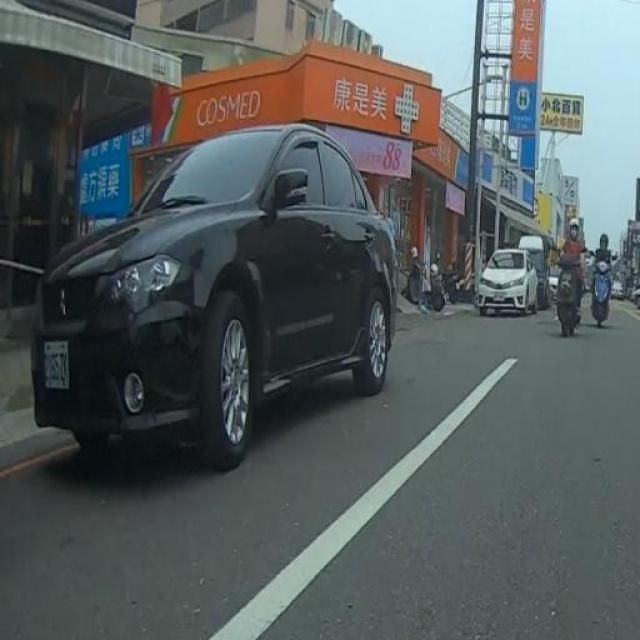illegalparking: (32, 124, 398, 469), (480, 236, 544, 314)
